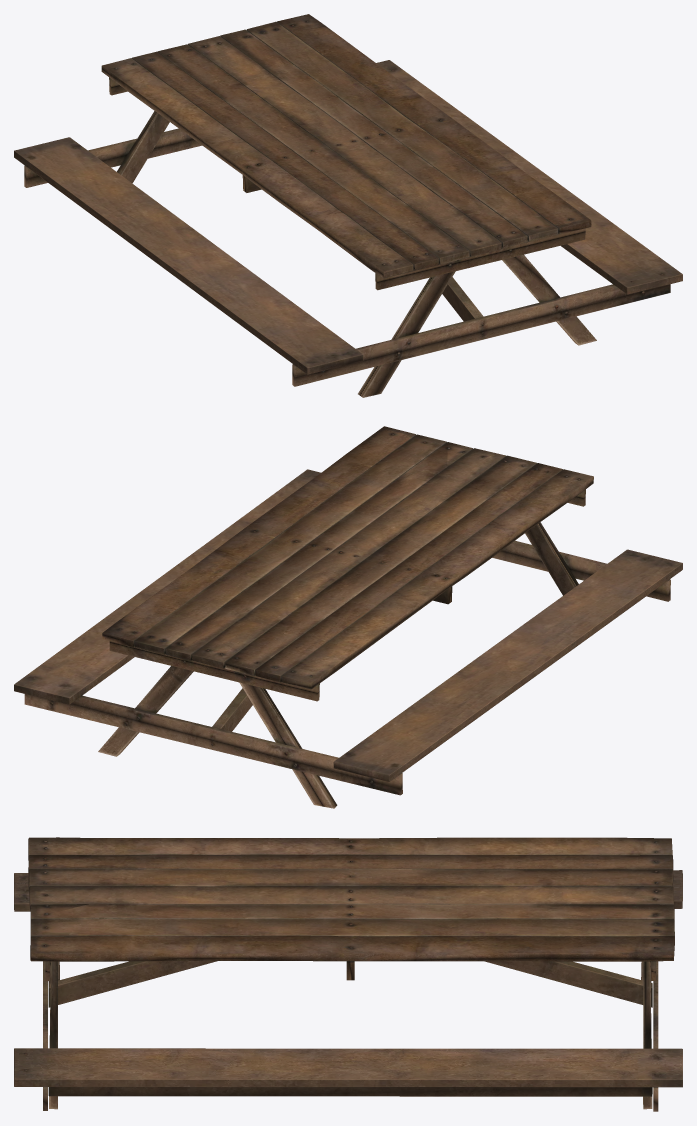
The model's file is picnic_hq.glb.
3 renders of one model, top to bottom at view 1: azimuth 30°, elevation 25°; view 2: azimuth 150°, elevation 25°; view 3: azimuth 270°, elevation 25°, orthographic. The views are drawn at different scales.
Visible parts, largest first — view 1: wooden_picnic_table; view 2: wooden_picnic_table; view 3: wooden_picnic_table.
Part boxes in pixels (left/top/right/bottom): wooden_picnic_table: left=14, top=14, right=682, bottom=397; wooden_picnic_table: left=14, top=426, right=682, bottom=808; wooden_picnic_table: left=14, top=837, right=682, bottom=1111.
Size of the model in its own units: 2.24 by 0.7445 by 3.02.
2 materials, 2 textured.
